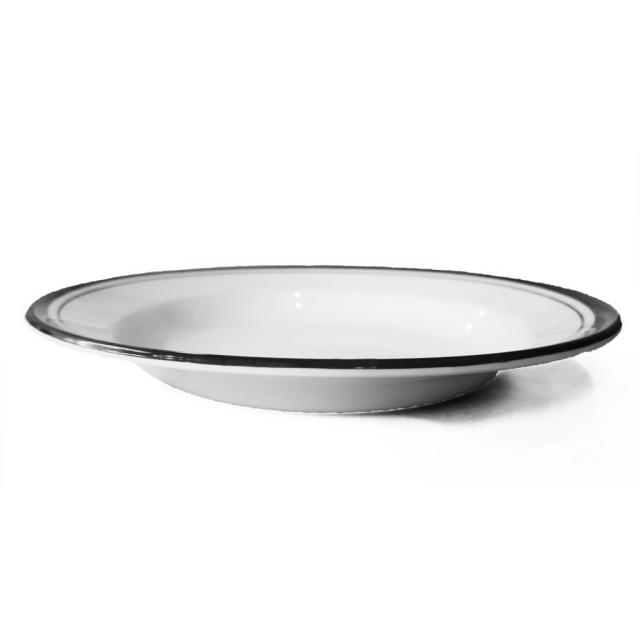dish: (18, 178, 630, 438)
